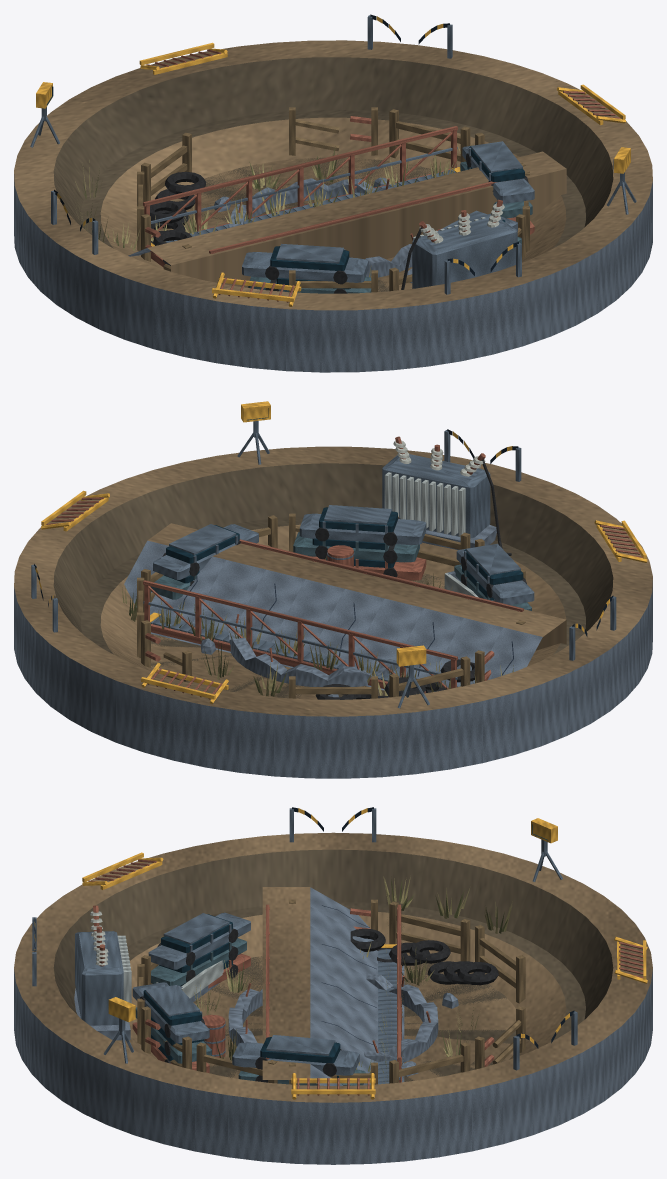
File: ap_jungla.glb
3 views of the same model, one above another, from view 1: azimuth 30°, elevation 25°; view 2: azimuth 150°, elevation 25°; view 3: azimuth 270°, elevation 25° (orthographic).
Parts seen in each view (by area): view 1: foso_nasor, guarida_lagarto, rio_orilla, cubil_coloso, cubil_toro, puente_vado, cubil; view 2: foso_nasor, rio_orilla, guarida_lagarto, cubil_coloso, puente_vado, cubil_toro, cubil; view 3: foso_nasor, guarida_lagarto, rio_orilla, cubil_coloso, cubil_toro, cubil, puente_vado.
Boxes of the visible parts, left/top/right/bottom form: foso_nasor: left=14, top=14, right=652, bottom=372; guarida_lagarto: left=75, top=109, right=585, bottom=291; rio_orilla: left=107, top=145, right=566, bottom=287; cubil_coloso: left=150, top=141, right=534, bottom=293; cubil_toro: left=137, top=107, right=529, bottom=292; puente_vado: left=143, top=126, right=496, bottom=267; cubil: left=180, top=146, right=455, bottom=290; foso_nasor: left=14, top=401, right=652, bottom=778; rio_orilla: left=122, top=523, right=566, bottom=692; guarida_lagarto: left=81, top=436, right=585, bottom=698; cubil_coloso: left=151, top=505, right=534, bottom=699; puente_vado: left=143, top=539, right=523, bottom=693; cubil_toro: left=137, top=513, right=525, bottom=699; cubil: left=178, top=545, right=452, bottom=698; foso_nasor: left=14, top=807, right=652, bottom=1164; guarida_lagarto: left=74, top=876, right=585, bottom=1081; rio_orilla: left=262, top=887, right=404, bottom=1085; cubil_coloso: left=132, top=912, right=498, bottom=1085; cubil_toro: left=137, top=899, right=525, bottom=1084; cubil: left=194, top=942, right=491, bottom=1079; puente_vado: left=265, top=904, right=401, bottom=1084.
Bounding box in the file's own units: 14 × 2.82 × 14.
Materials: 1 (1 with a texture image).
